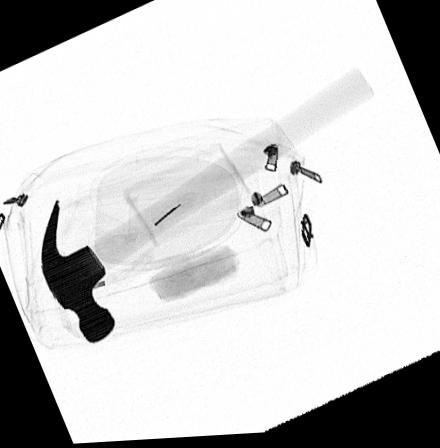Hammer: (38, 70, 375, 345)
